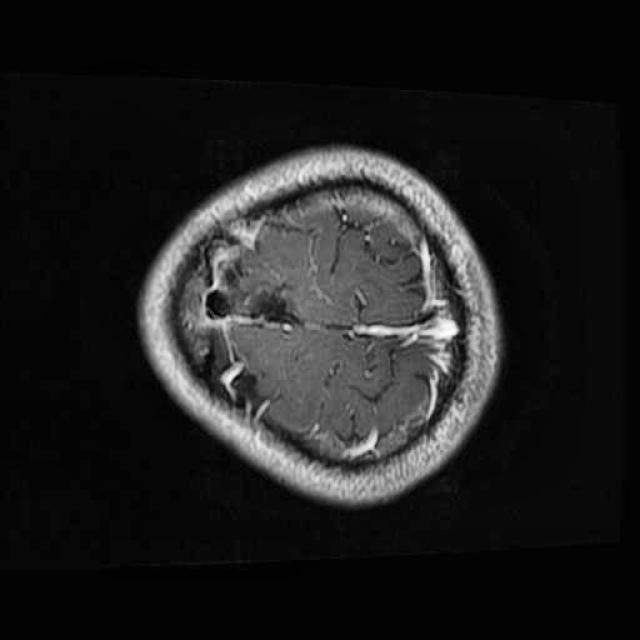Non-Tumor: (240, 262, 311, 340)
